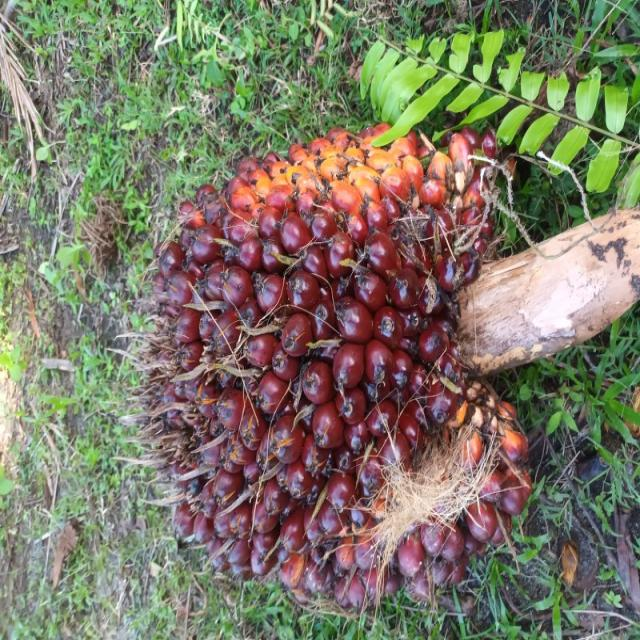fraksi 1: (28, 113, 414, 640)
